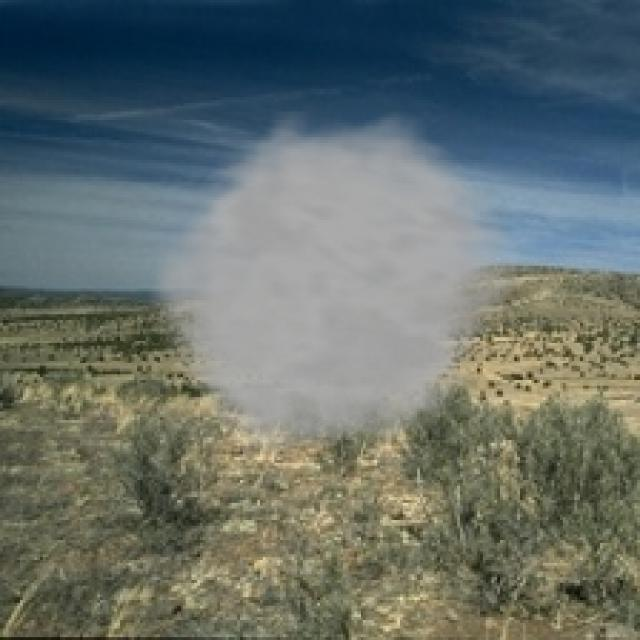Smoke: (139, 111, 532, 468)
